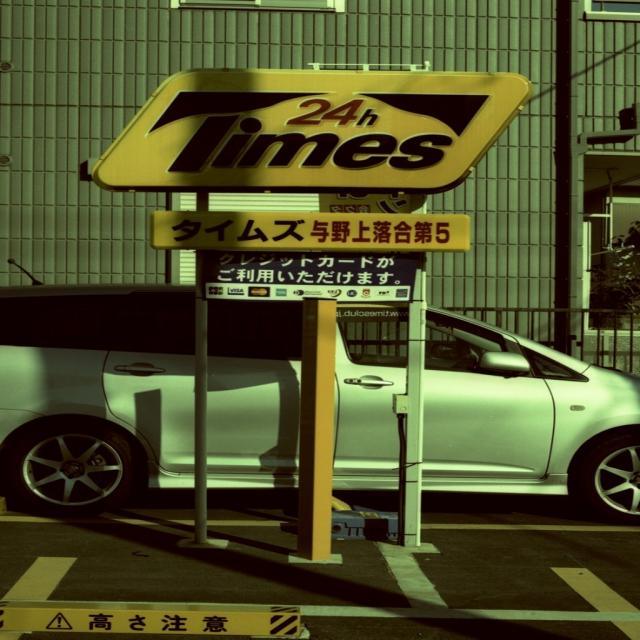car: (0, 258, 638, 526)
